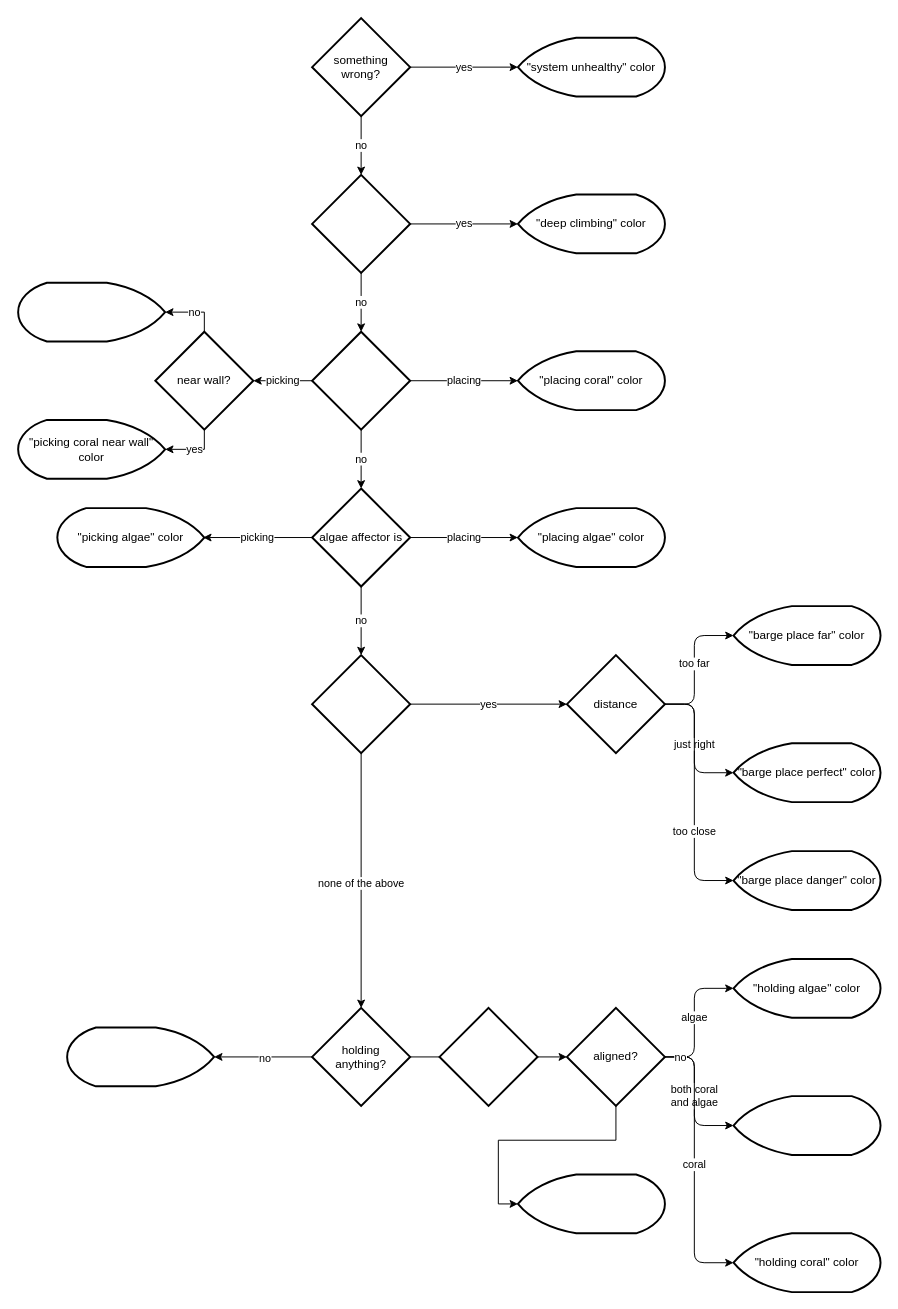
Some shapes in this 898 by 1309 pixel diagram are drawn without their labels. The shapes that lost their labels are listed below. From the top down, each one's centre as x and y in pixels, then its label:
pixel 361 223: deep climbing?
pixel 91 311: "picking coral" color
pixel 361 380: coralator is
pixel 361 704: barge placing?
pixel 140 1056: "idle" color
pixel 488 1056: yes?
pixel 806 1125: "holding both" color
pixel 590 1203: "aligned" color
